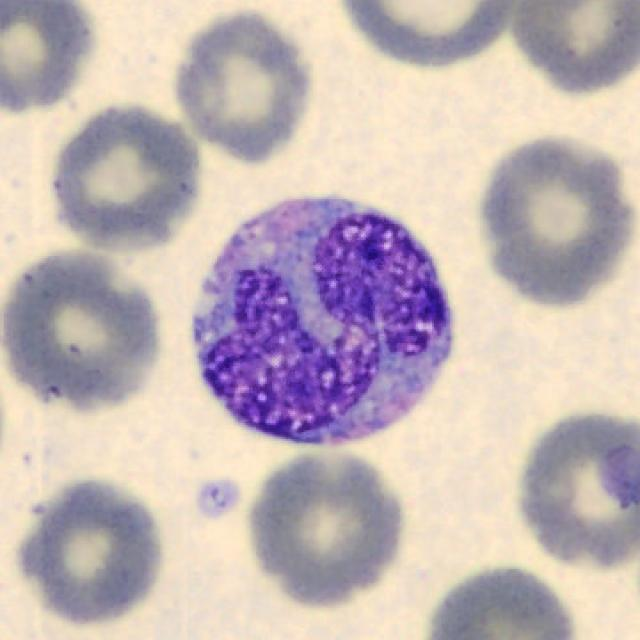Monocito: (192, 197, 453, 448)
